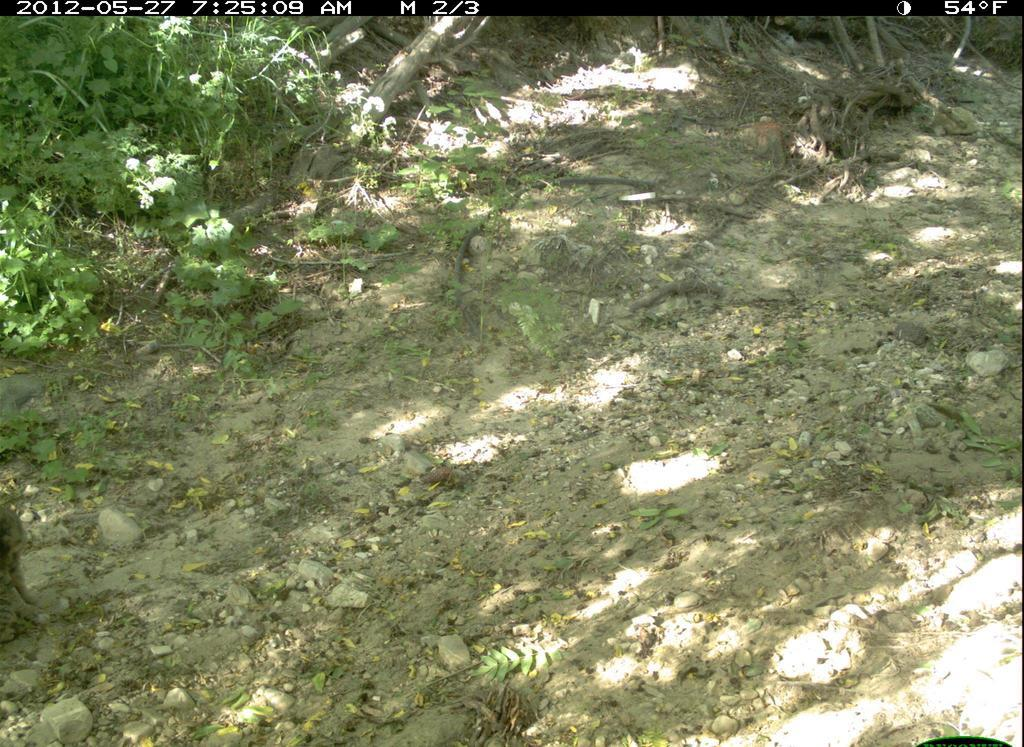cat: (2, 487, 48, 644)
